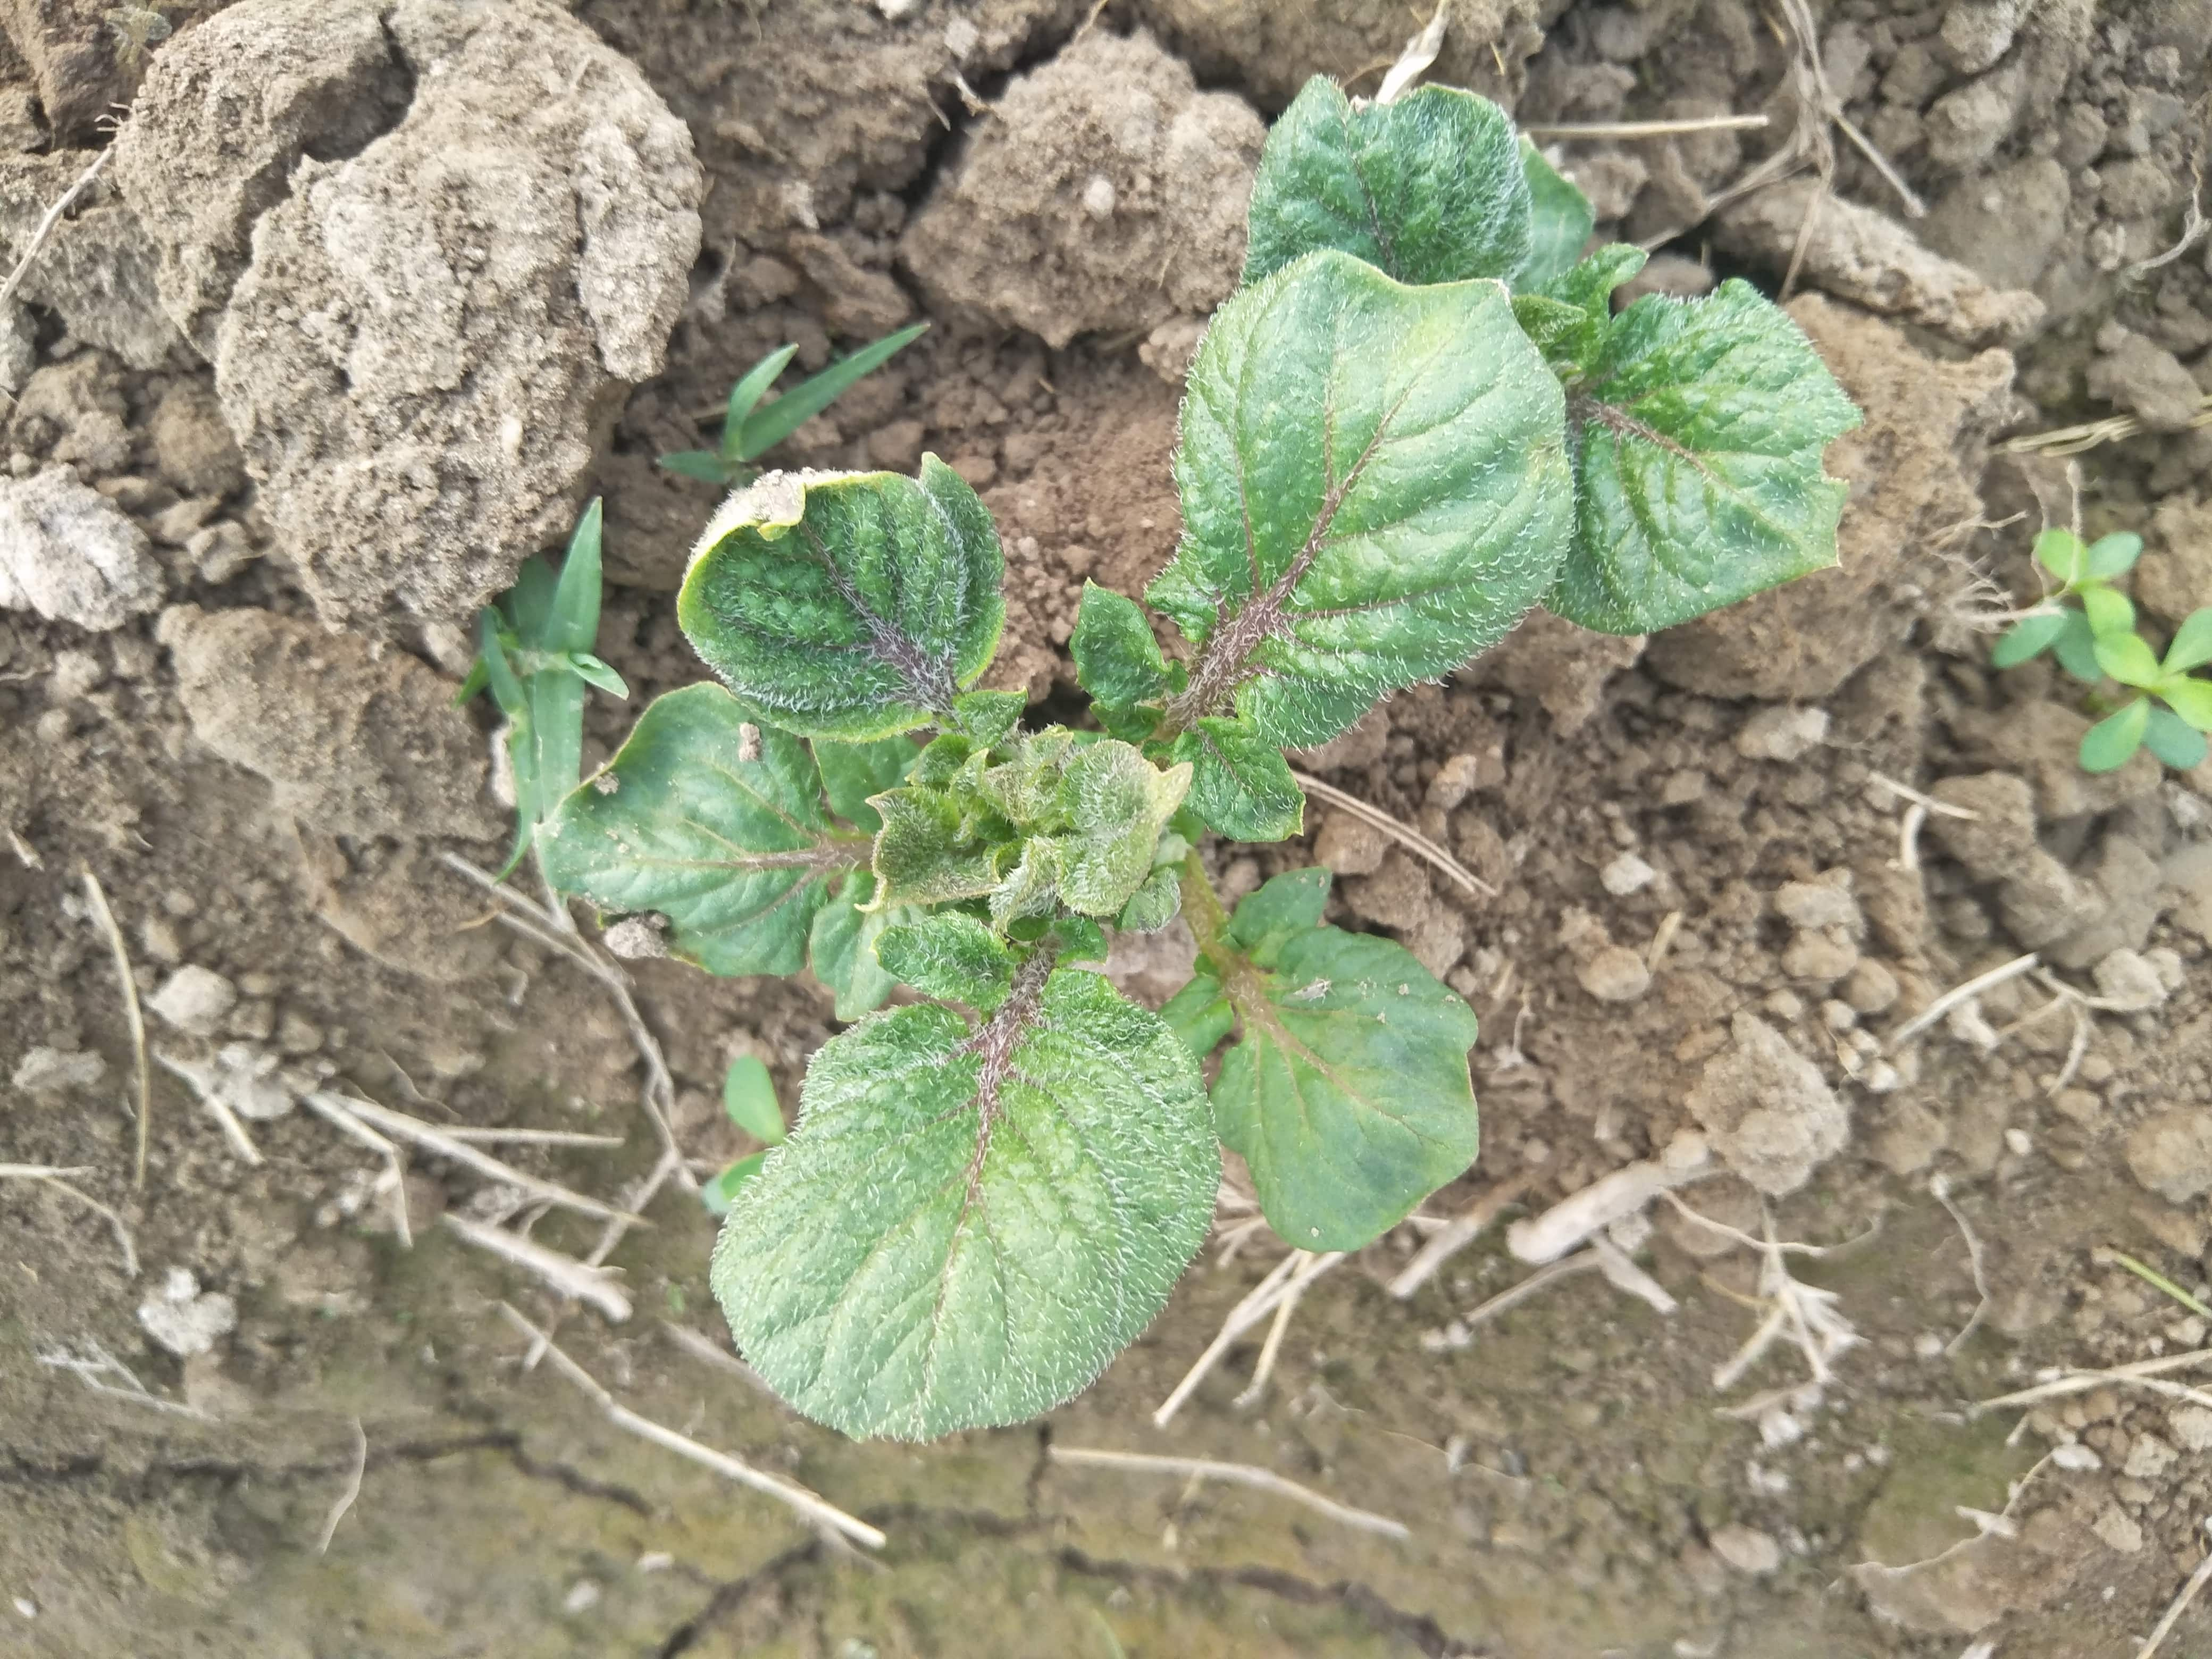daun: (723, 941, 1202, 1415), (1179, 237, 1545, 697), (1585, 277, 1843, 615), (1231, 885, 1467, 1246), (557, 681, 834, 974), (671, 479, 996, 727), (1249, 89, 1585, 314), (1036, 748, 1176, 903), (1169, 720, 1294, 843), (869, 793, 1007, 899), (1076, 582, 1165, 723)
